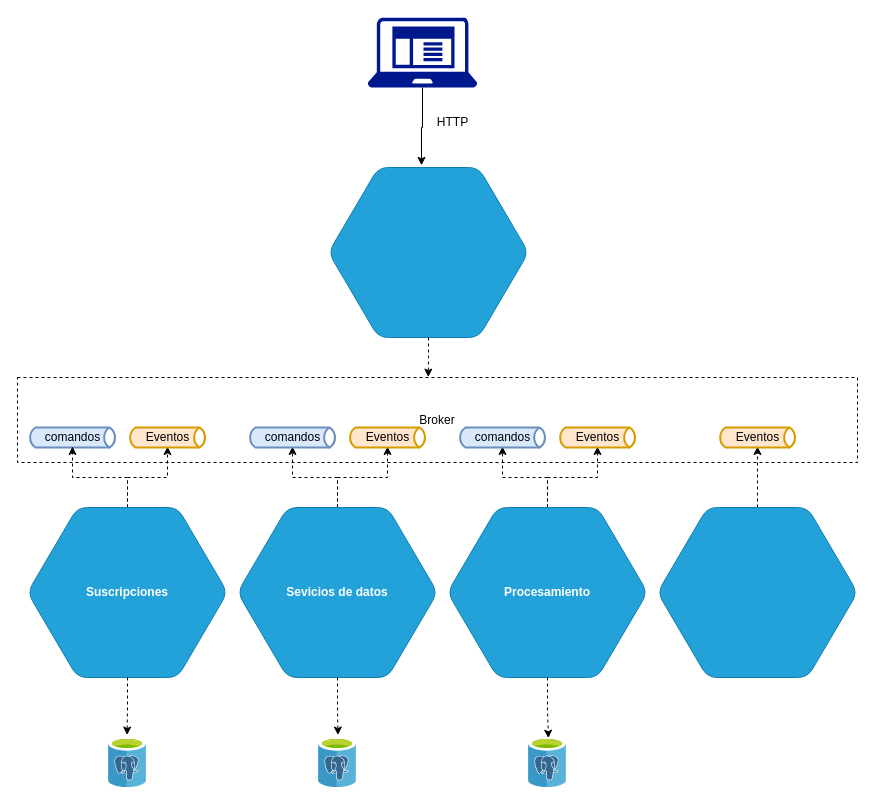
This 875x804 diagram has some shape labels left out. The box of each missing label's shape, as (x1, y1, x2, y2) in pixels:
BFF WEB: (328, 166, 528, 338)
Notificaciones: (656, 506, 858, 678)
